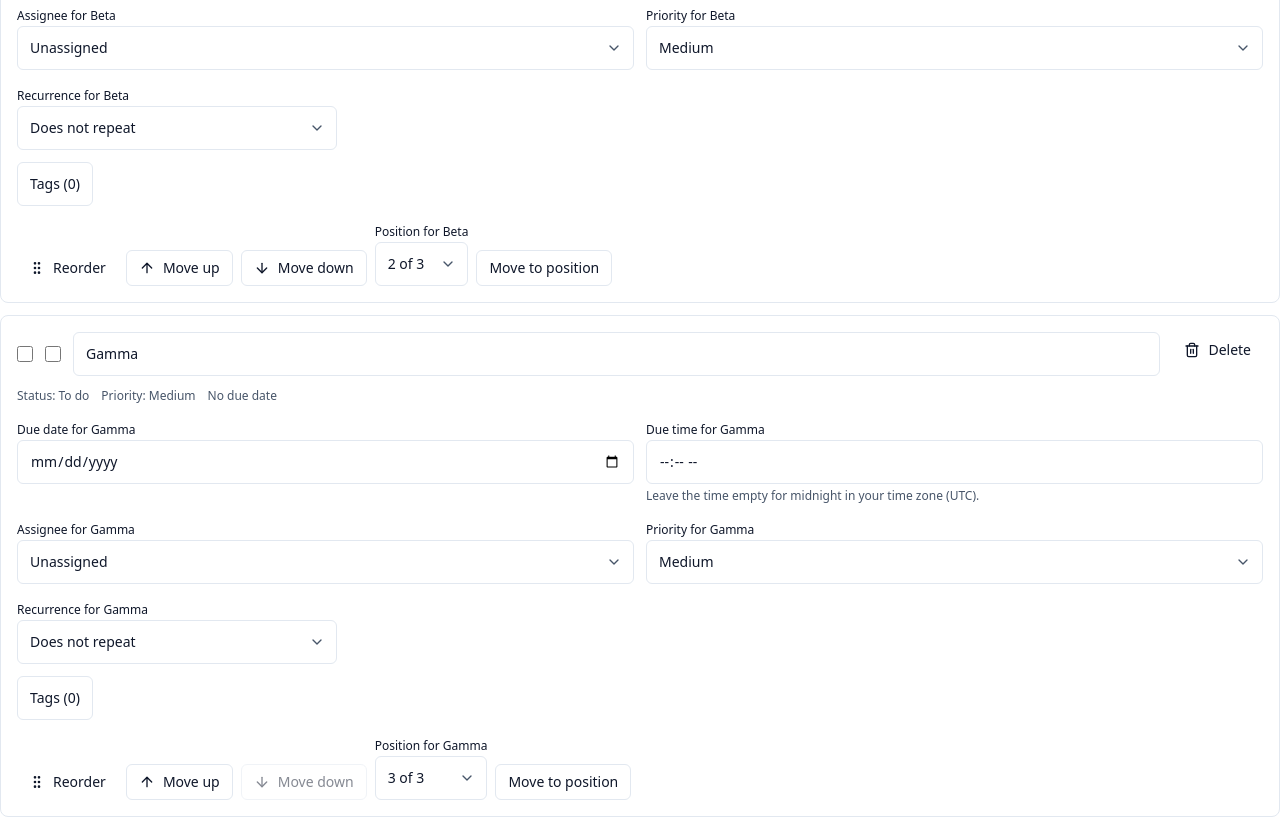
Test case: task reordering › anchors Move up to the displaced sibling and announces the destination
(page scrolled)
Click the button named "Move up Gamma" at (179, 782), box [126, 764, 233, 800]
(page scrolled)
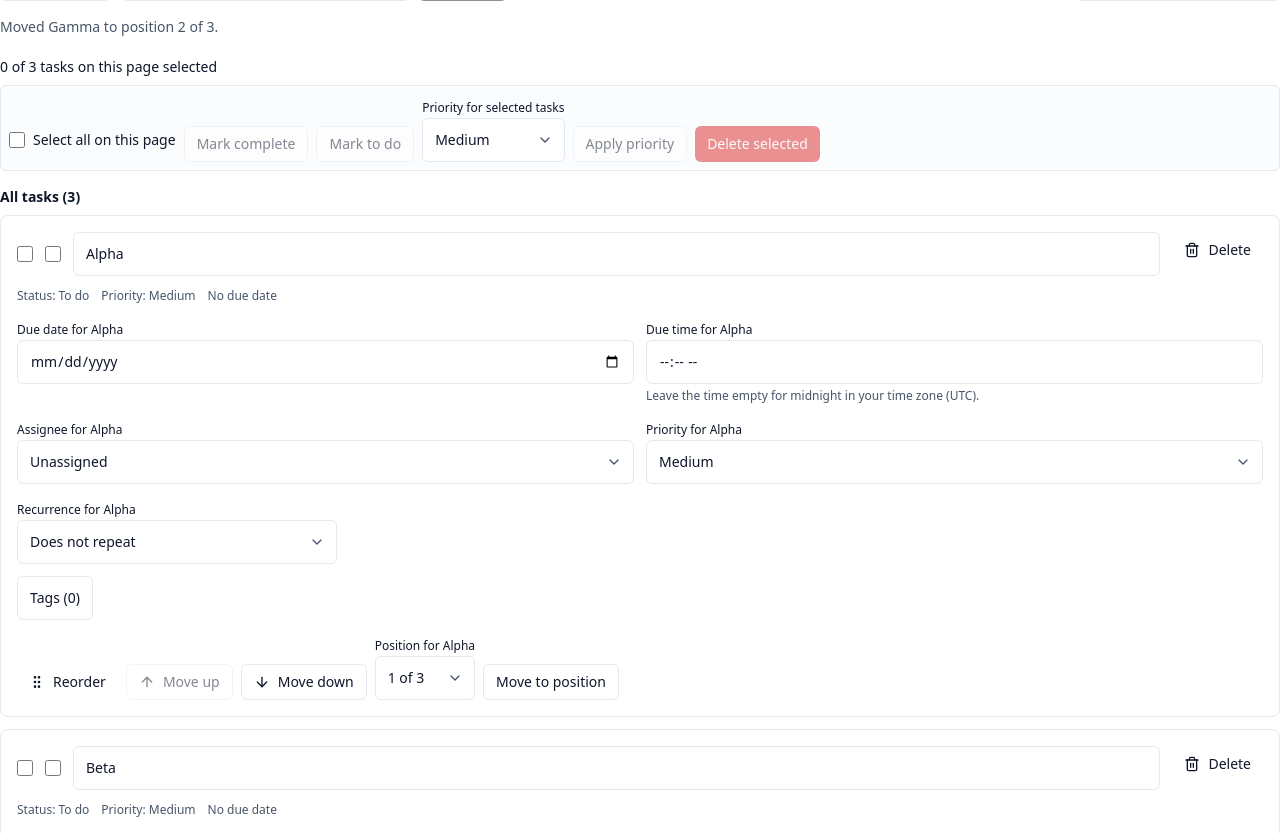
Now the text "Moved Gamma to position 2 of 3." is shown, box [0, 17, 218, 36]
